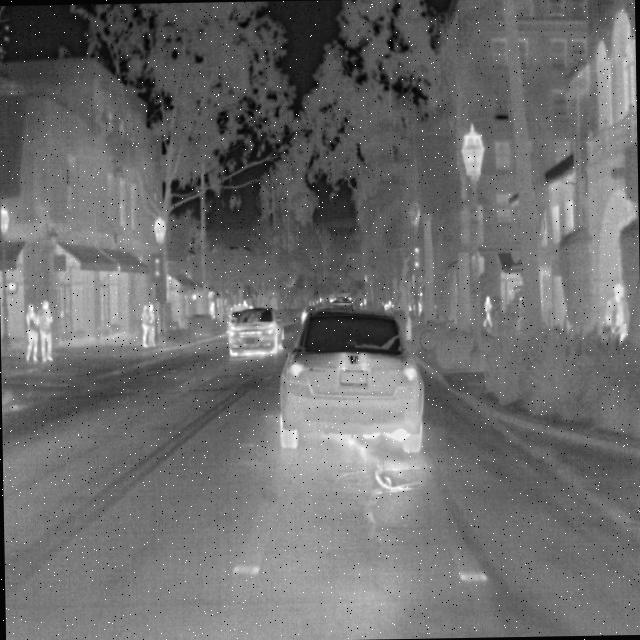Pedestrian: (602, 279, 632, 347), (34, 296, 56, 362), (21, 300, 40, 364), (146, 303, 157, 349), (481, 294, 494, 329), (140, 303, 149, 348)
Vehicle: (274, 297, 427, 458), (226, 304, 284, 356)
